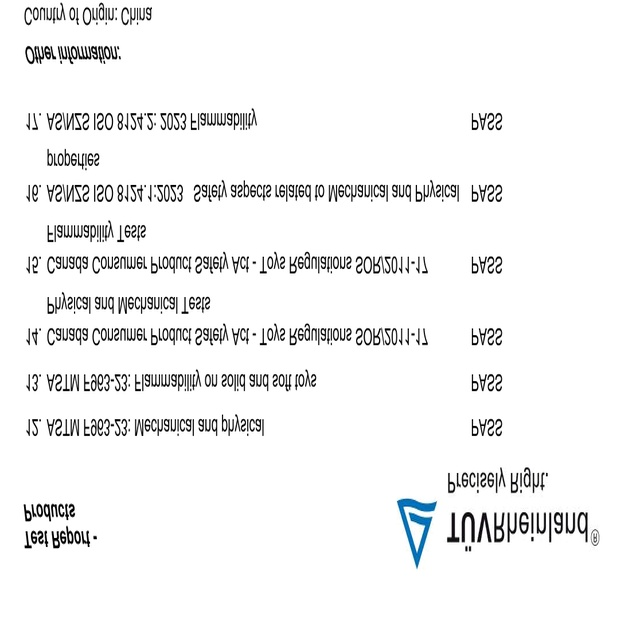tuv_rheinland: (392, 494, 604, 567)
